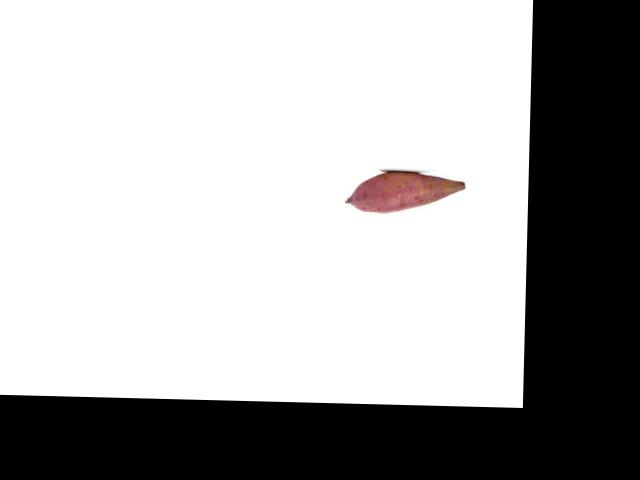sweet_potato: (344, 172, 465, 214)
